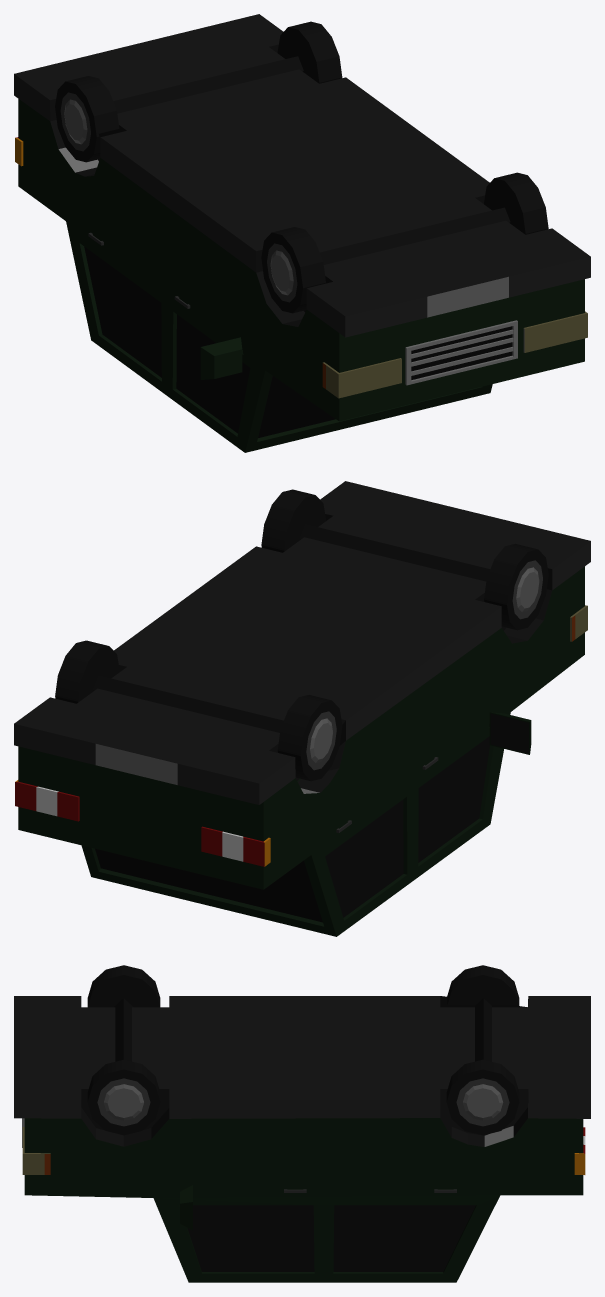
Rendered from car3.FBX.
3 views of the same model, one above another, from view 1: azimuth 30°, elevation 25°; view 2: azimuth 150°, elevation 25°; view 3: azimuth 270°, elevation 25° (orthographic). The views are drawn at different scales.
Parts seen in each view (by area): view 1: car3; view 2: car3; view 3: car3.
Part boxes in pixels (x1=…): car3: x1=14, y1=14, x2=590, y2=452; car3: x1=14, y1=481, x2=590, y2=936; car3: x1=14, y1=965, x2=590, y2=1282.
Size of the model in its own units: 3.31 by 2.34 by 5.74.
